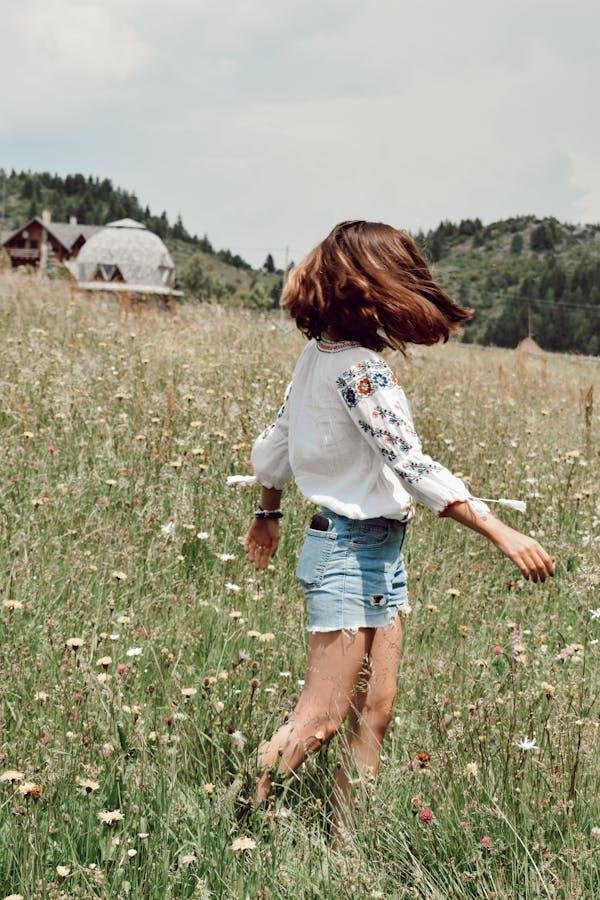Human: (201, 196, 534, 872)
